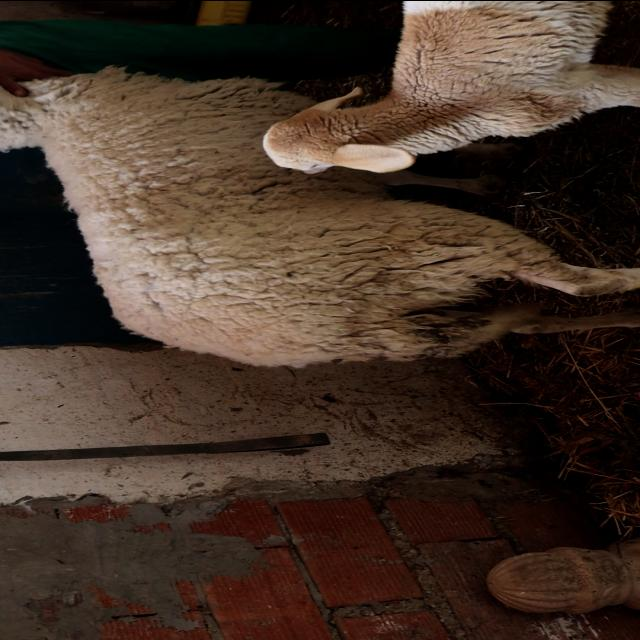Score_3: (0, 65, 639, 367)
